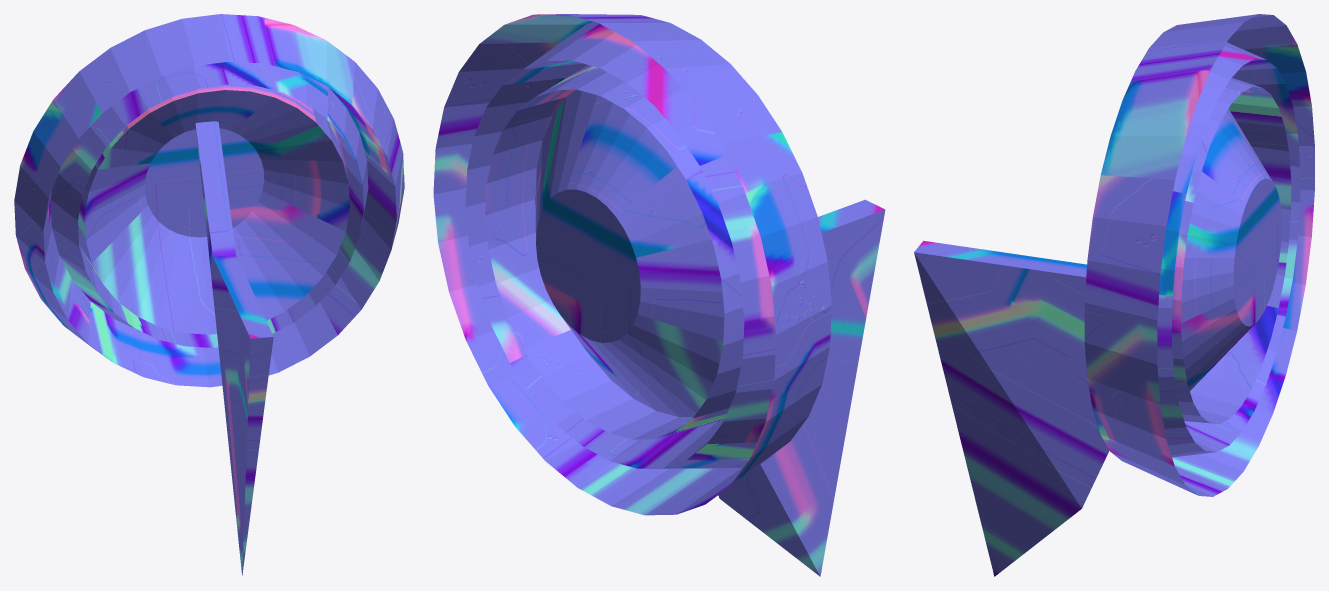
Rendered from radar12.obj.
3 renders of one model, left to right at view 1: azimuth 30°, elevation 25°; view 2: azimuth 150°, elevation 25°; view 3: azimuth 270°, elevation 25°, orthographic. The views are drawn at different scales.
Visible parts, largest first — view 1: radar; view 2: radar; view 3: radar.
Part boxes in pixels (box(x1,y1,x2,y2)): radar: box(14, 14, 404, 575); radar: box(433, 14, 885, 576); radar: box(914, 14, 1314, 576).
Bounding box in the file's own units: 0.9537 × 1.3 × 0.8126.
